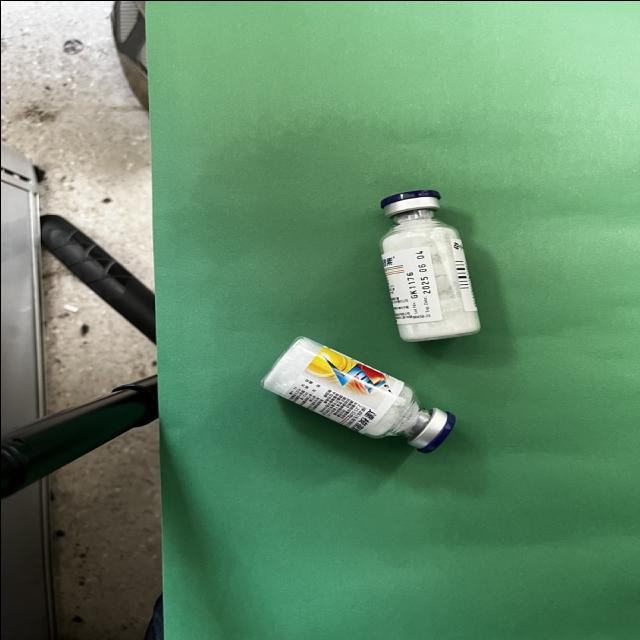Vials: (258, 336, 455, 454), (378, 188, 480, 342)
